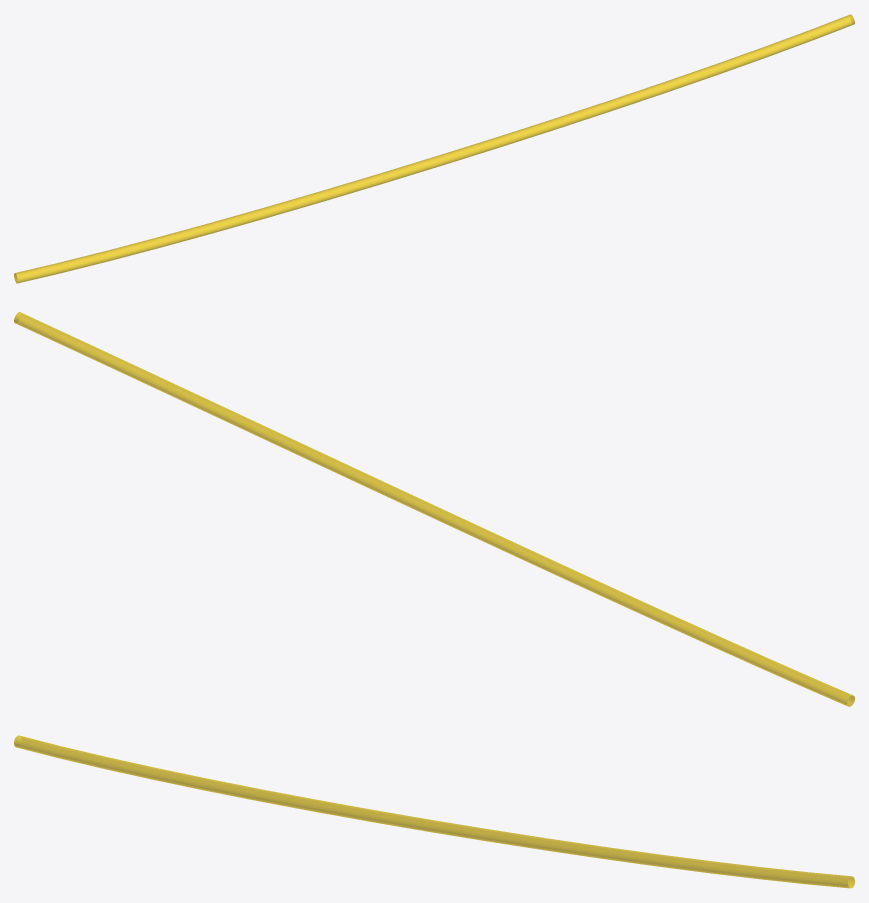
File: Event_31209032_track_38.fbx
3 renders of one model, top to bottom at view 1: azimuth 30°, elevation 25°; view 2: azimuth 150°, elevation 25°; view 3: azimuth 330°, elevation 25°, orthographic. The views are drawn at different scales.
Parts seen in each view (by area): view 1: Model; view 2: Model; view 3: Model.
Part boxes in pixels (box(x1,y1,x2,y2)): Model: box(14, 14, 854, 283); Model: box(14, 312, 854, 706); Model: box(14, 735, 854, 888).
Bounding box in the file's own units: 3.35 × 0.4733 × 0.43.
